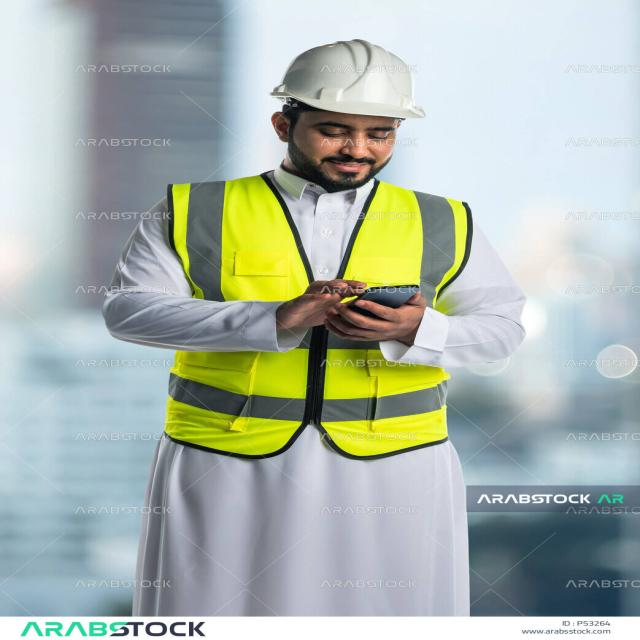helmet: (268, 38, 434, 125)
no-goggles: (280, 111, 415, 152)
vest: (167, 174, 478, 464)
